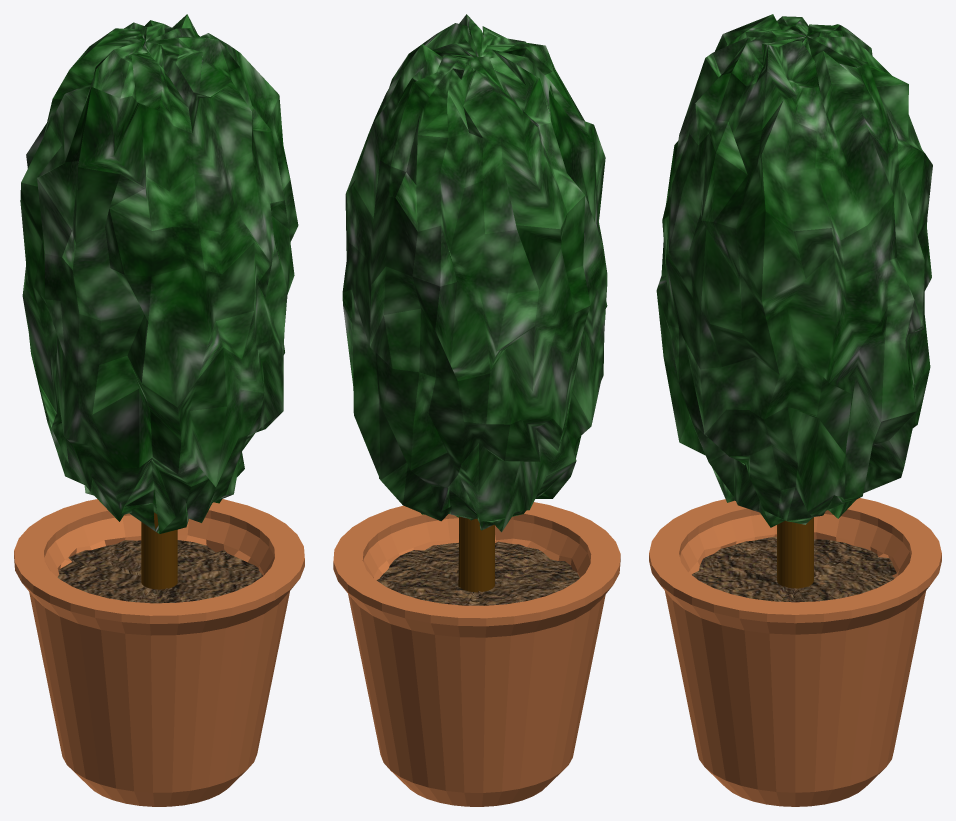
Rendered from PottedPlant.fbx.
The picture shows the model from 3 angles, left to right: view 1: azimuth 30°, elevation 25°; view 2: azimuth 150°, elevation 25°; view 3: azimuth 270°, elevation 25°; orthographic projection.
Visible parts, largest first — view 1: Plant; view 2: Plant; view 3: Plant.
Part boxes in pixels (bbox=[...]): Plant: bbox=[14, 14, 304, 806]; Plant: bbox=[333, 14, 620, 806]; Plant: bbox=[649, 14, 941, 806].
Size of the model in its own units: 220 by 620 by 220.
